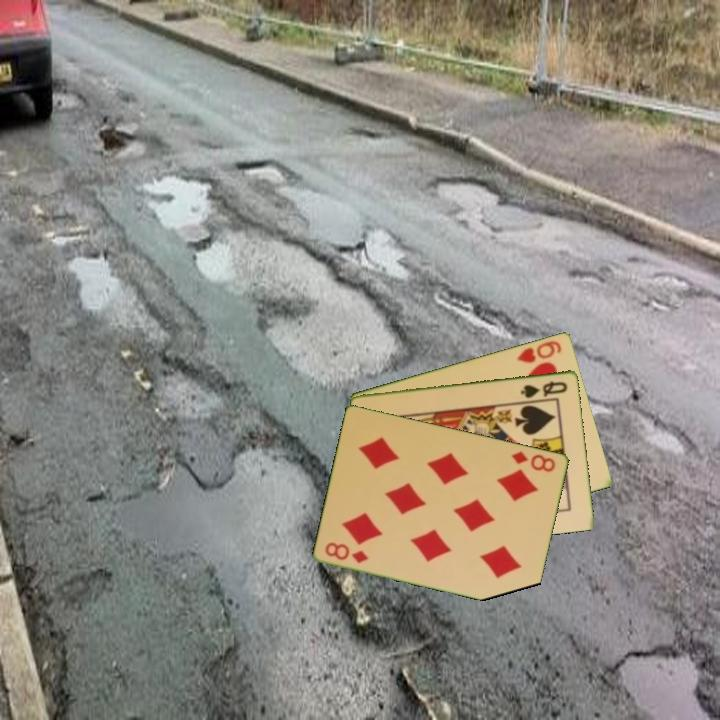6h: (514, 337, 565, 365)
8d: (508, 447, 559, 475), (322, 538, 372, 566)
Qs: (518, 377, 570, 401)
